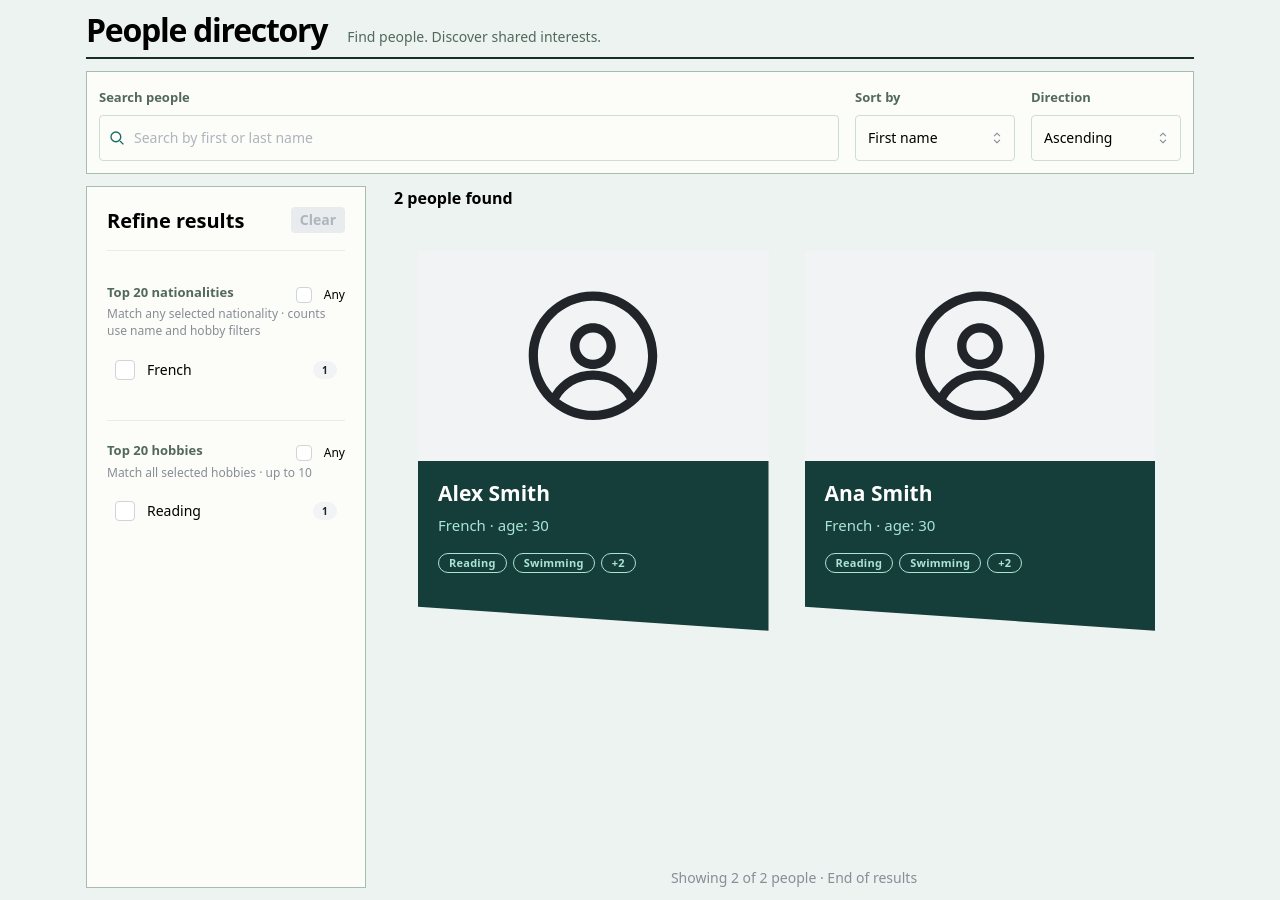
Test: loads a second page, resets pagination on sort, and handles browser navigation
This screenshot has width=1280, height=900.
Expected: the element "Alex Smith" is shown, [418, 251, 768, 631]
Expected: the element "Ana Smith" is shown, [804, 251, 1155, 631]
Select "Age" in the dropdown labelled "Sort by" at (935, 138), box [855, 115, 1015, 161]
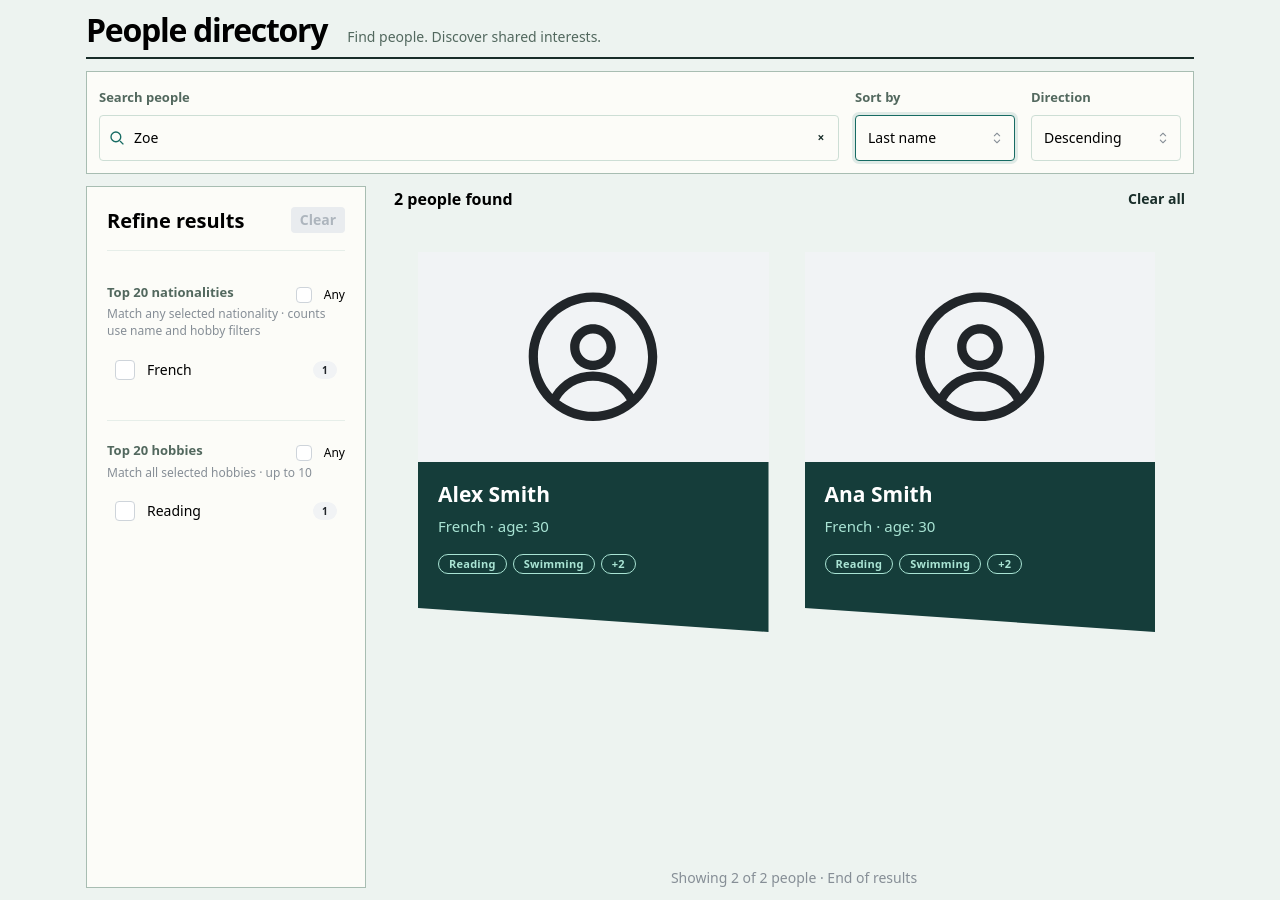
Now the field labelled "Search people" holds "Zoe", box [99, 115, 839, 161]
